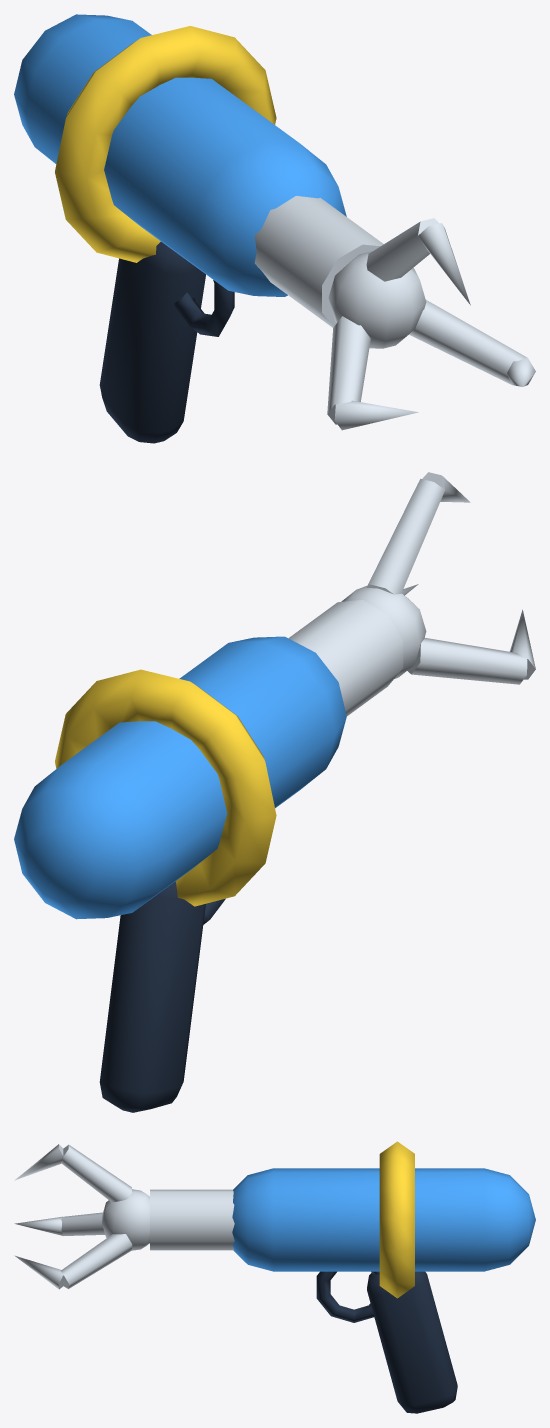
The model's file is GrappleHook.fbx.
3 views of the same model, one above another, from view 1: azimuth 30°, elevation 25°; view 2: azimuth 150°, elevation 25°; view 3: azimuth 270°, elevation 25° (orthographic). The views are drawn at different scales.
Visible parts, largest first — view 1: GrappleHook; view 2: GrappleHook; view 3: GrappleHook.
Part boxes in pixels (<box>): GrappleHook: <box>14,14,535,443</box>; GrappleHook: <box>14,472,535,1112</box>; GrappleHook: <box>14,1141,535,1413</box>.
Bounding box in the file's own units: 0.13 × 0.2366 × 0.422.
